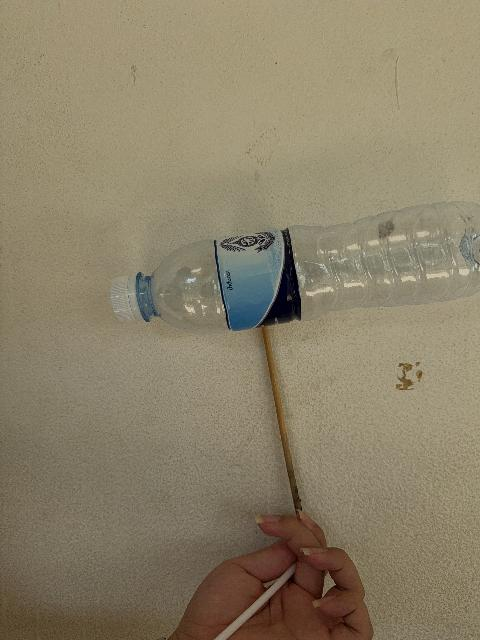bottle: (111, 202, 479, 333)
